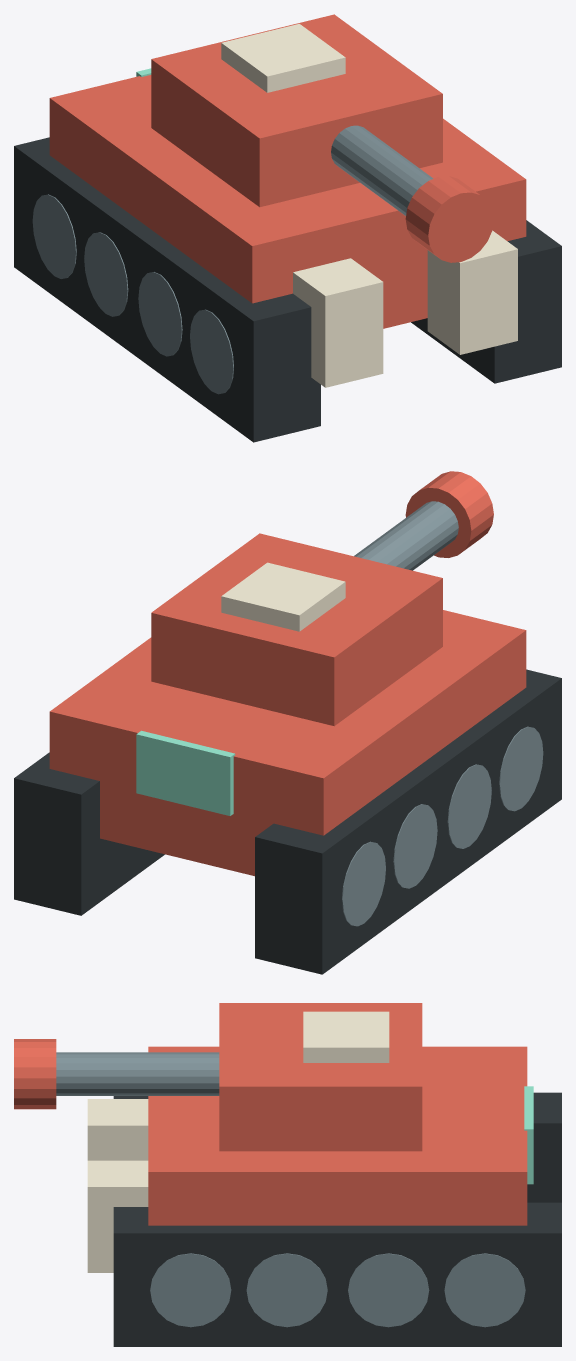
Rendered from hunter.glb.
3 renders of one model, top to bottom at view 1: azimuth 30°, elevation 25°; view 2: azimuth 150°, elevation 25°; view 3: azimuth 270°, elevation 25°, orthographic. The views are drawn at different scales.
Parts seen in each view (by area): view 1: Armour.001, Turret shell.001, Track.002, Ram blade, Ram blade.001, Track.003, Muzzle.002, Hatch.001, Barrel.001, Track wheel.008, Track wheel.011, Track wheel.010 (+1 smaller); view 2: Armour.001, Turret shell.001, Track.002, Track.003, Rear core.001, Hatch.001, Barrel.001, Muzzle.002, Track wheel.010, Track wheel.011, Track wheel.009, Track wheel.008; view 3: Armour.001, Track.003, Turret shell.001, Barrel.001, Track wheel.013, Track wheel.015, Track wheel.012, Track wheel.014, Ram blade.001, Hatch.001, Ram blade, Track.002 (+2 smaller).
Part boxes in pixels (x1,y1,x2,y2): Armour.001: (49,75,526,328); Turret shell.001: (151,14,442,207); Track.002: (14,137,320,442); Ram blade: (293,258,383,387); Ram blade.001: (427,230,517,354); Track.003: (411,220,561,383); Muzzle.002: (405,176,493,262); Hatch.001: (221,24,345,92); Barrel.001: (331,125,433,215); Track wheel.008: (190,309,233,394); Track wheel.011: (32,194,76,278); Track wheel.010: (84,232,128,316); Armour.001: (49,610,526,876); Turret shell.001: (151,533,442,726); Track.002: (255,669,561,974); Track.003: (14,752,164,915); Rear core.001: (136,730,235,815); Hatch.001: (221,562,345,631); Barrel.001: (354,501,458,570); Muzzle.002: (405,471,493,557); Track wheel.010: (393,804,437,888); Track wheel.011: (342,841,385,926); Track wheel.009: (447,764,491,848); Track wheel.008: (499,726,543,811); Armour.001: (148,1046,527,1225); Track.003: (113,1202,561,1346); Turret shell.001: (219,1003,422,1151); Barrel.001: (56,1052,219,1095); Track wheel.013: (246,1253,327,1327); Track wheel.015: (444,1253,525,1327); Track wheel.012: (150,1253,231,1327); Track wheel.014: (348,1253,429,1327); Ram blade.001: (87,1160,148,1272); Hatch.001: (303,1011,389,1062); Ram blade: (87,1099,148,1160); Track.002: (113,1092,561,1202).
Bounding box in the file's own units: 1.98 × 1.61 × 3.24.
